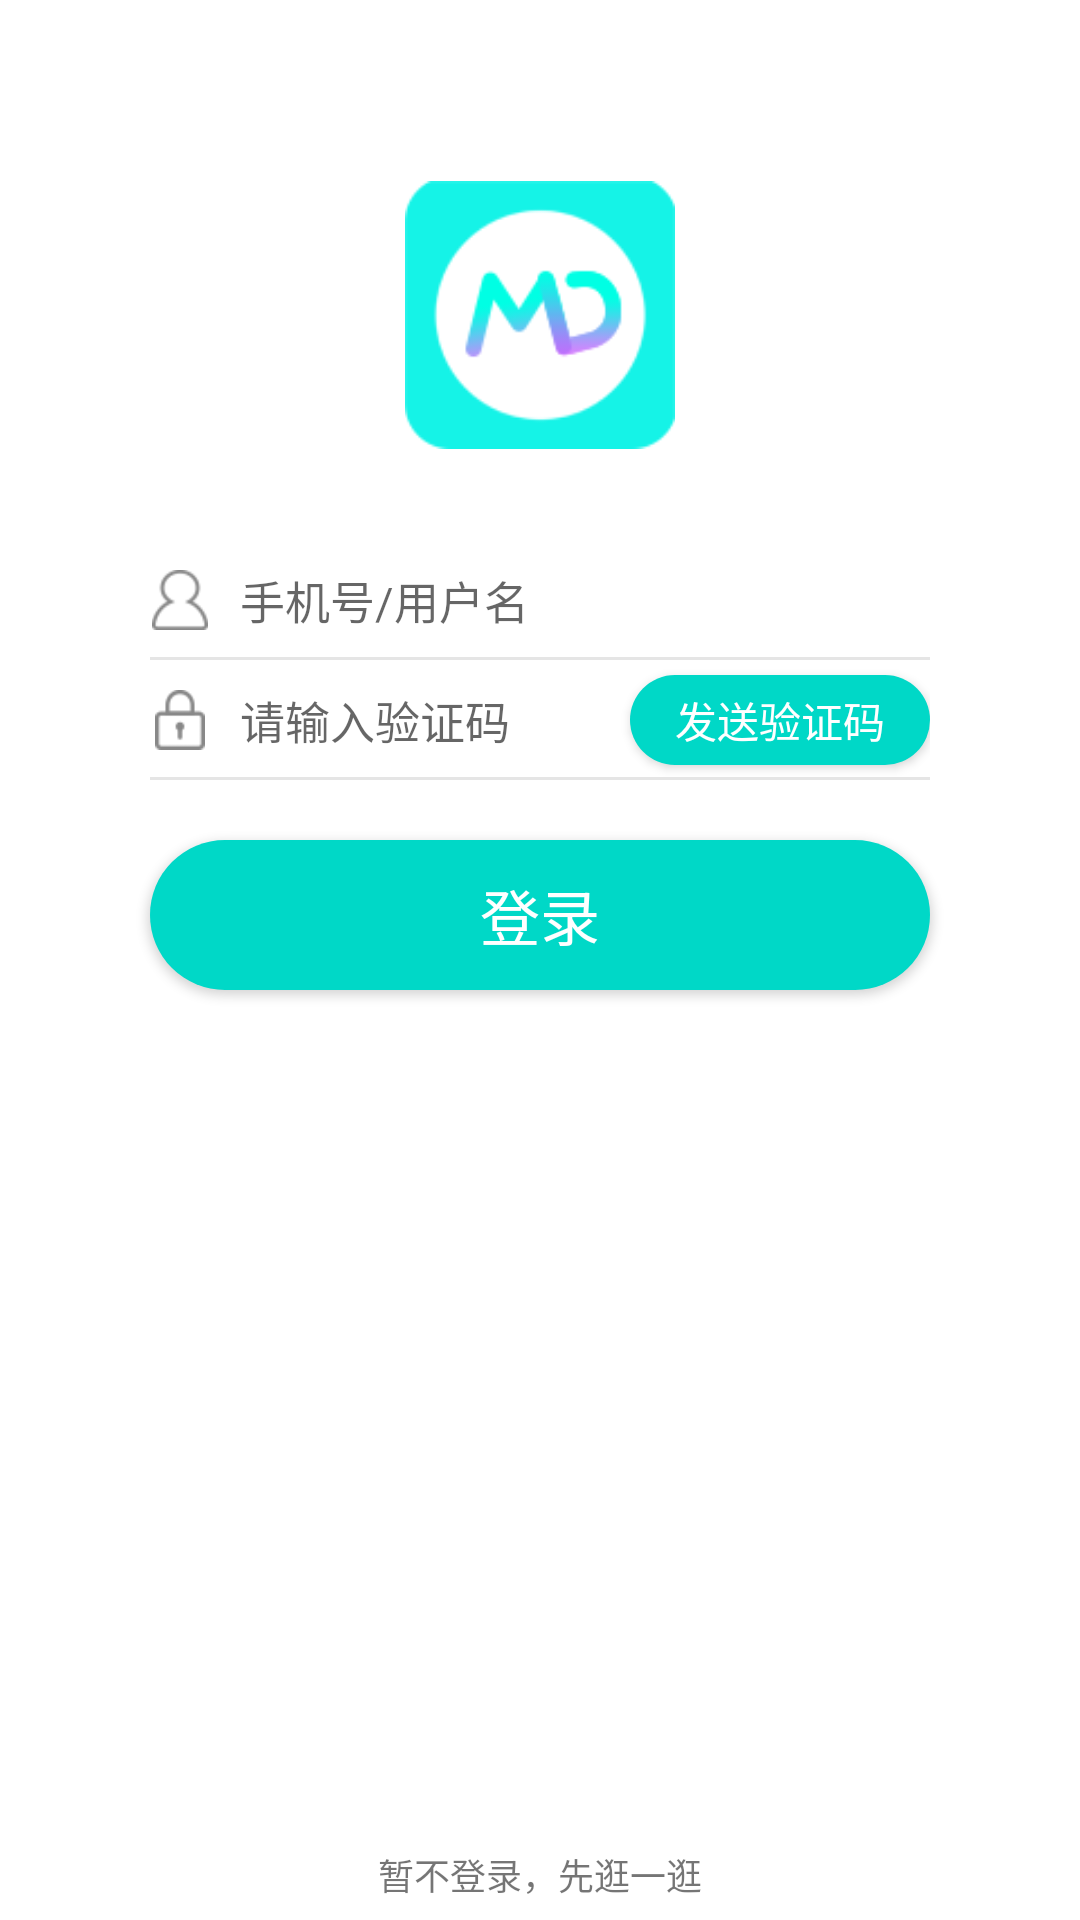

Where to tap for icons on this 1080 x 1920 app screen, as (x,y):
login pwd: (180,720)
login user: (180,600)
